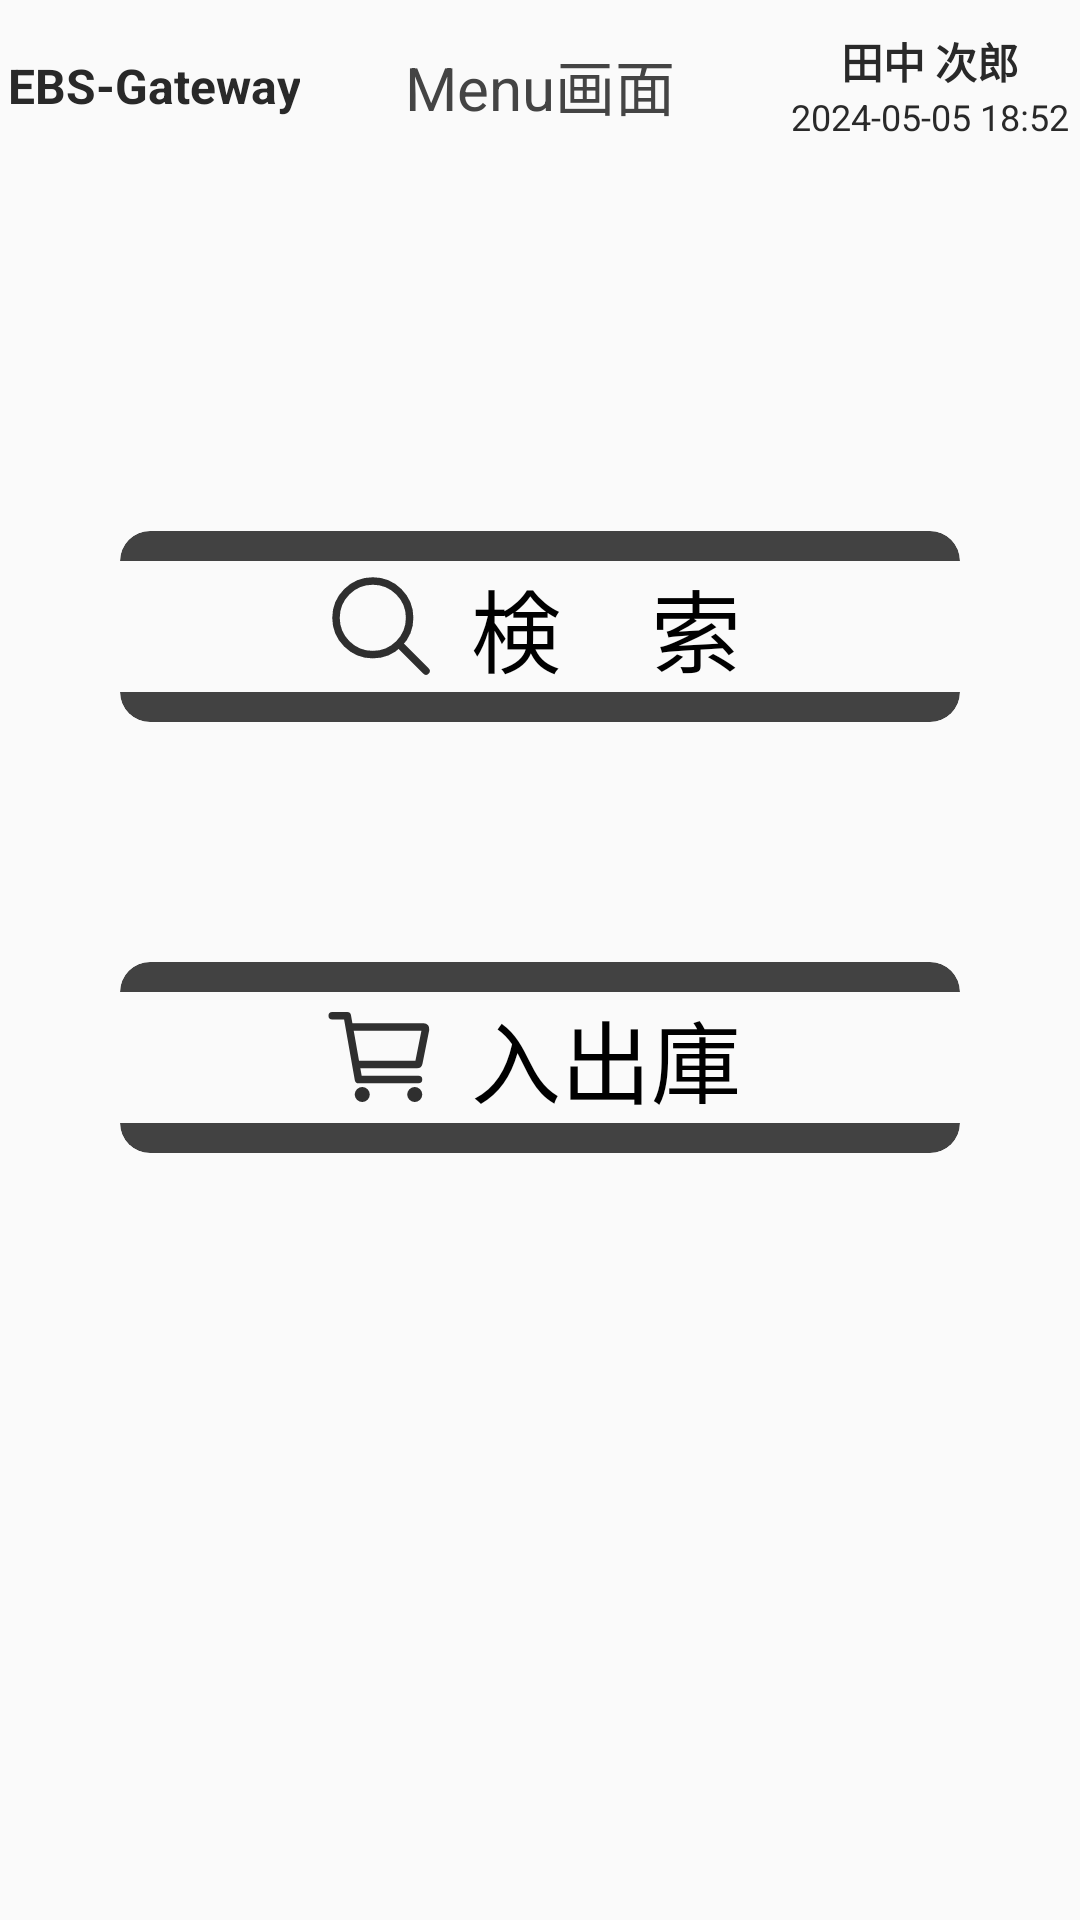

Where icons sit on this 1080px×1920px app screen, as (x1, y1, x2, y2):
cart: (328, 1012, 430, 1102)
search: (332, 577, 430, 675)
